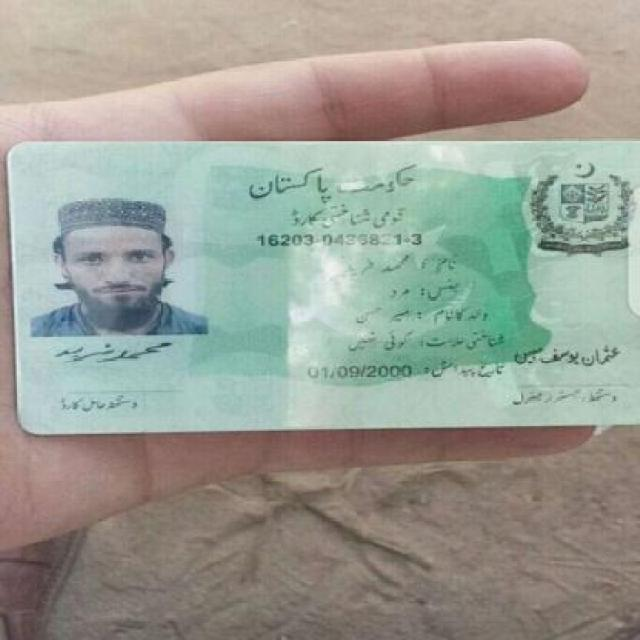Front: (5, 131, 637, 435)
